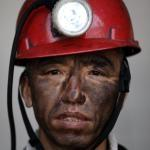helmet: (6, 0, 146, 63)
